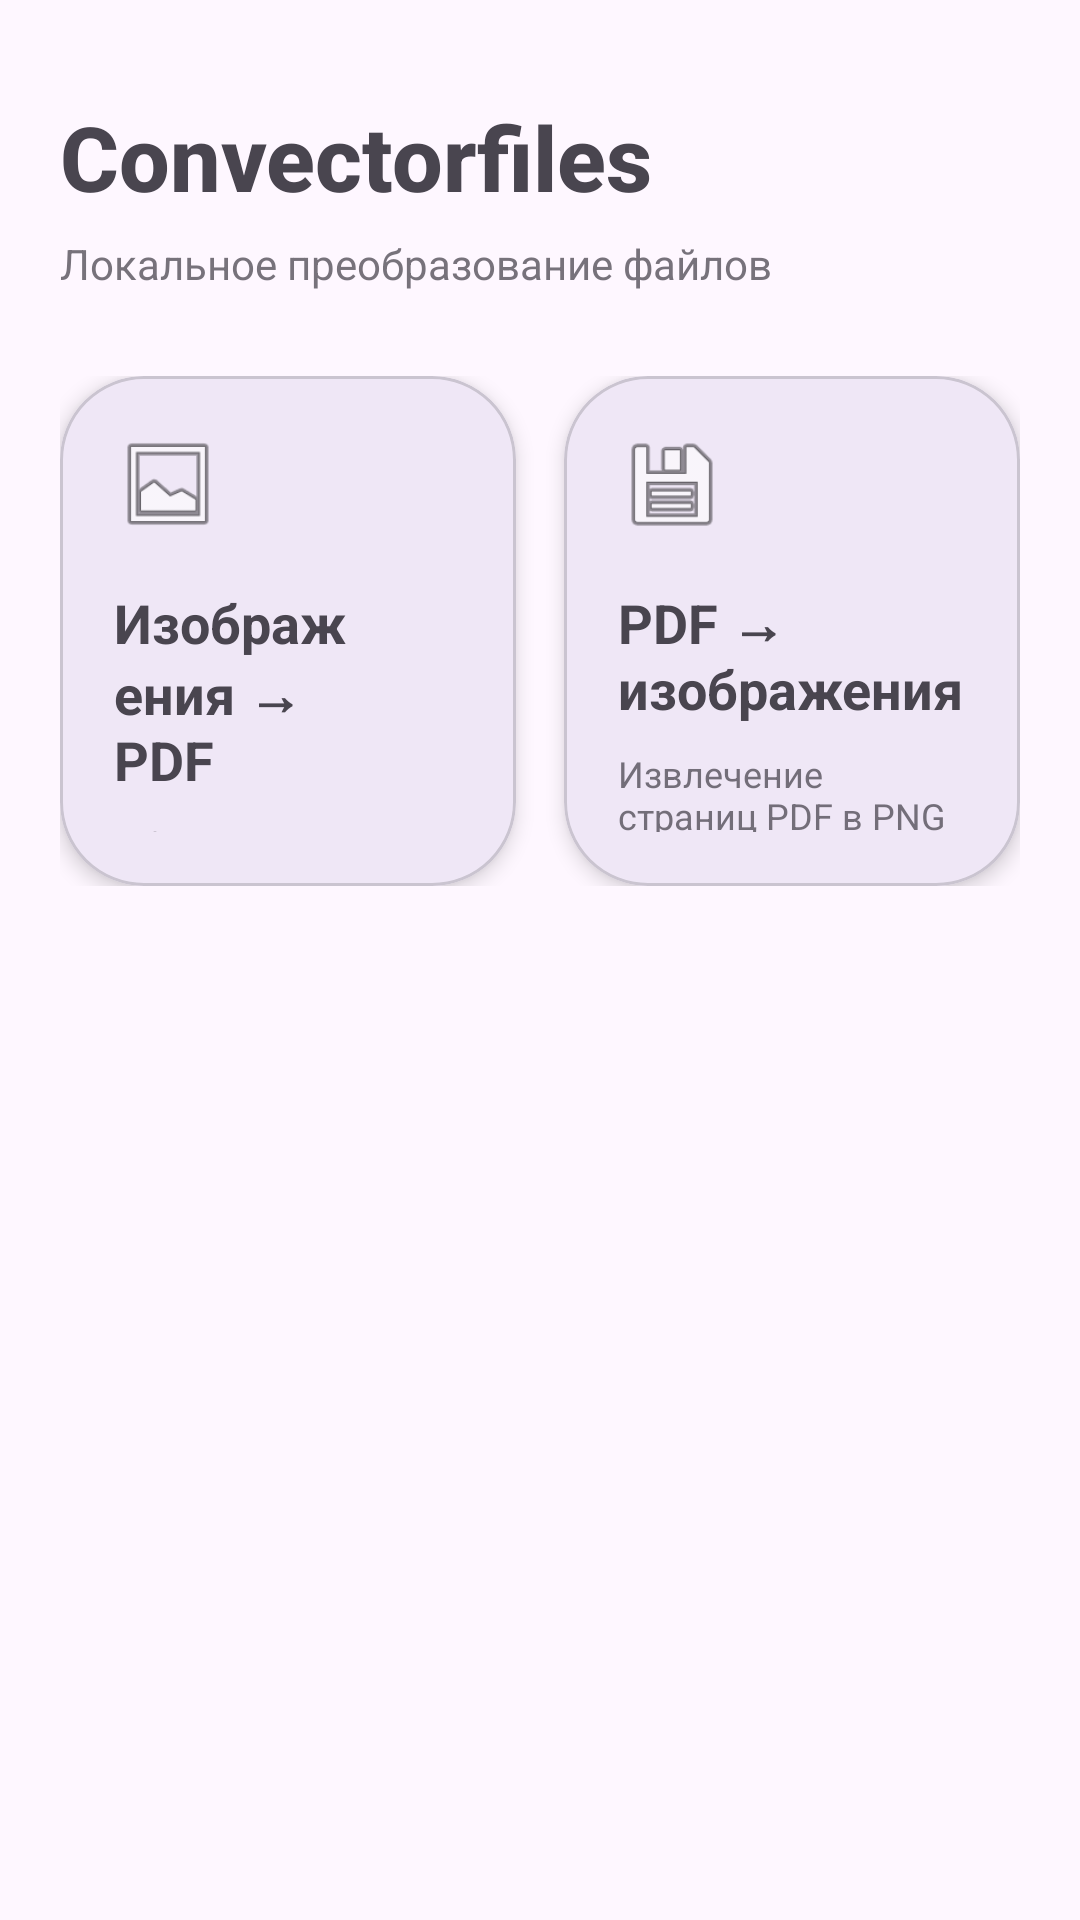

Icons on this 1080x1920 Android screen, each with its box as box(x1, y1, x2, y2):
Изображения в PDF: box(127, 443, 209, 525)
